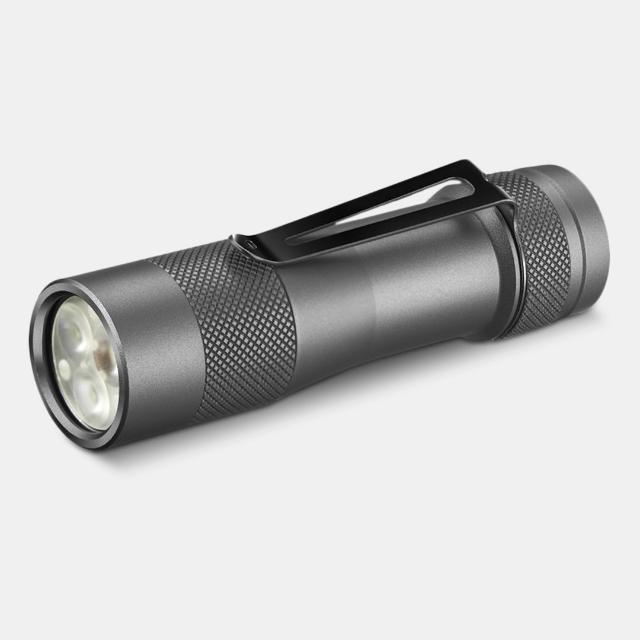Flashlight: (20, 148, 618, 462)
